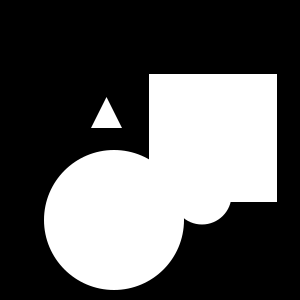circle: (149, 74, 277, 202)
rectangle: (44, 150, 184, 290), (172, 166, 232, 224)
triangle: (91, 97, 122, 128)
